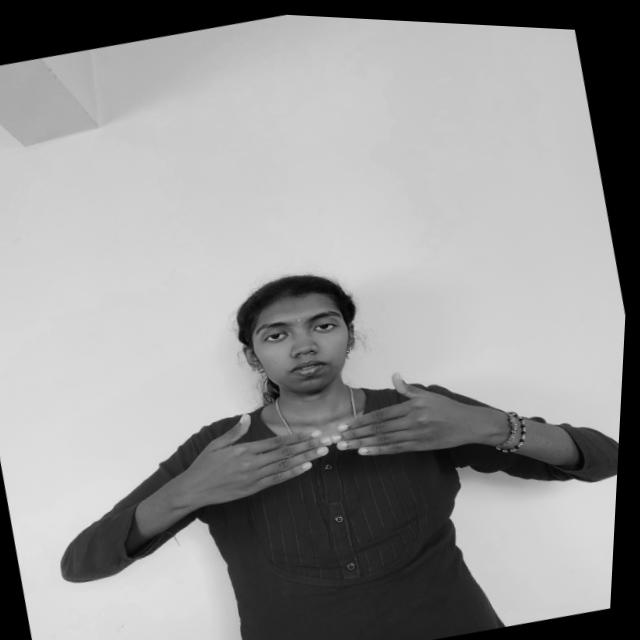Night: (147, 333, 517, 532)
